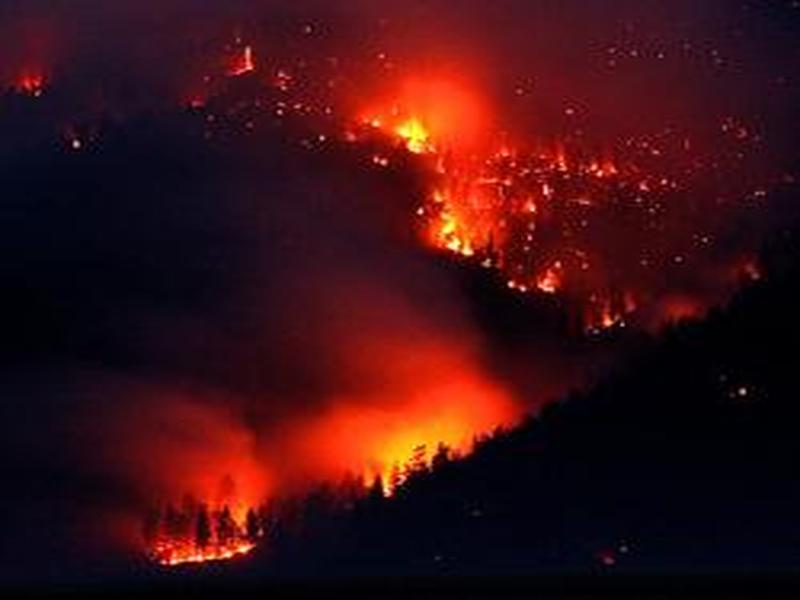FIRE: (100, 67, 635, 567)
